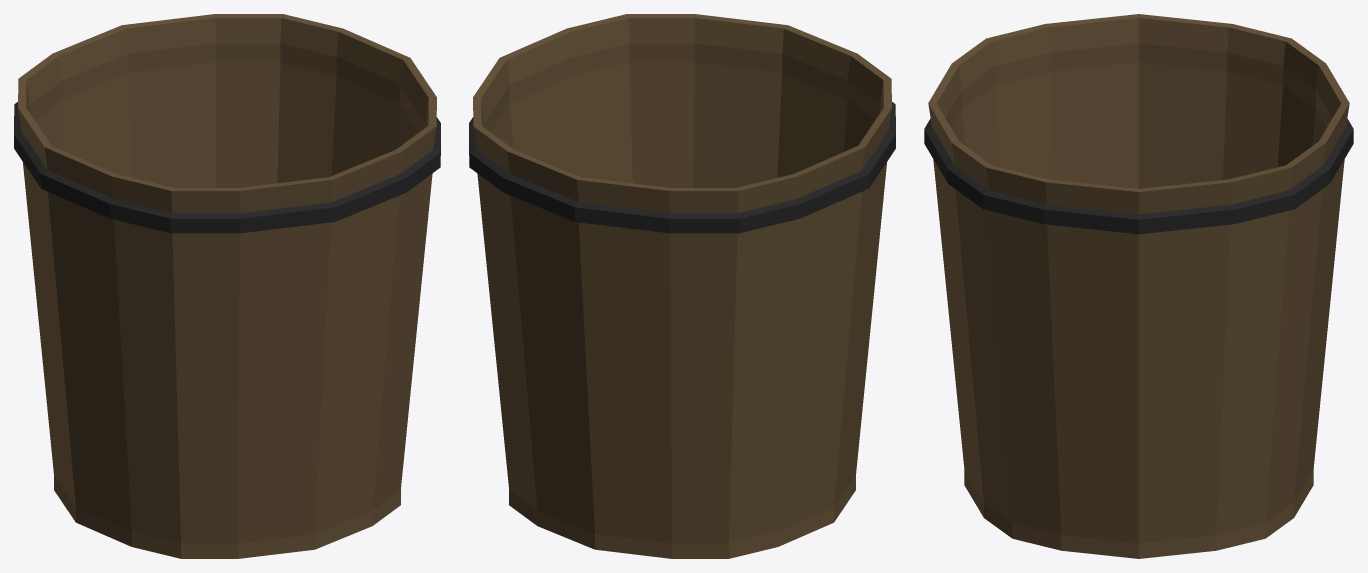
The model's file is Bucket.fbx.
3 views of the same model, side by side, from view 1: azimuth 30°, elevation 25°; view 2: azimuth 150°, elevation 25°; view 3: azimuth 270°, elevation 25° (orthographic).
Parts seen in each view (by area): view 1: Cube.004; view 2: Cube.004; view 3: Cube.004.
Boxes of the visible parts, x1,y1,x2,y2 form: Cube.004: [14, 14, 440, 558]; Cube.004: [469, 14, 895, 558]; Cube.004: [924, 14, 1353, 558].
Size of the model in its own units: 147 by 144 by 147.
